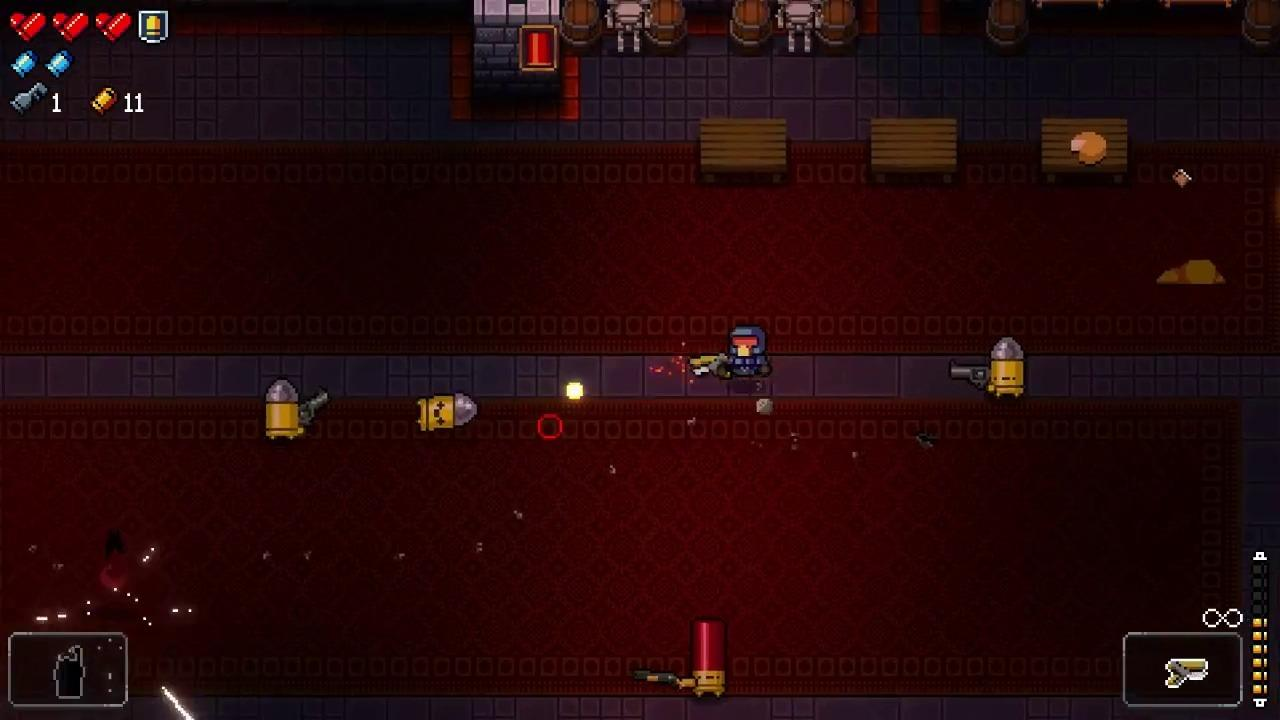bullet_kin: (988, 337, 1025, 401), (263, 379, 300, 442)
dead_apprentice_gunjurer: (1157, 260, 1226, 285)
dead_bullet_kin: (417, 394, 476, 434)
player: (726, 327, 773, 381)
red_shotgun_kin: (689, 616, 727, 699)
table: (870, 117, 956, 187), (1041, 119, 1127, 183), (704, 120, 786, 182)
